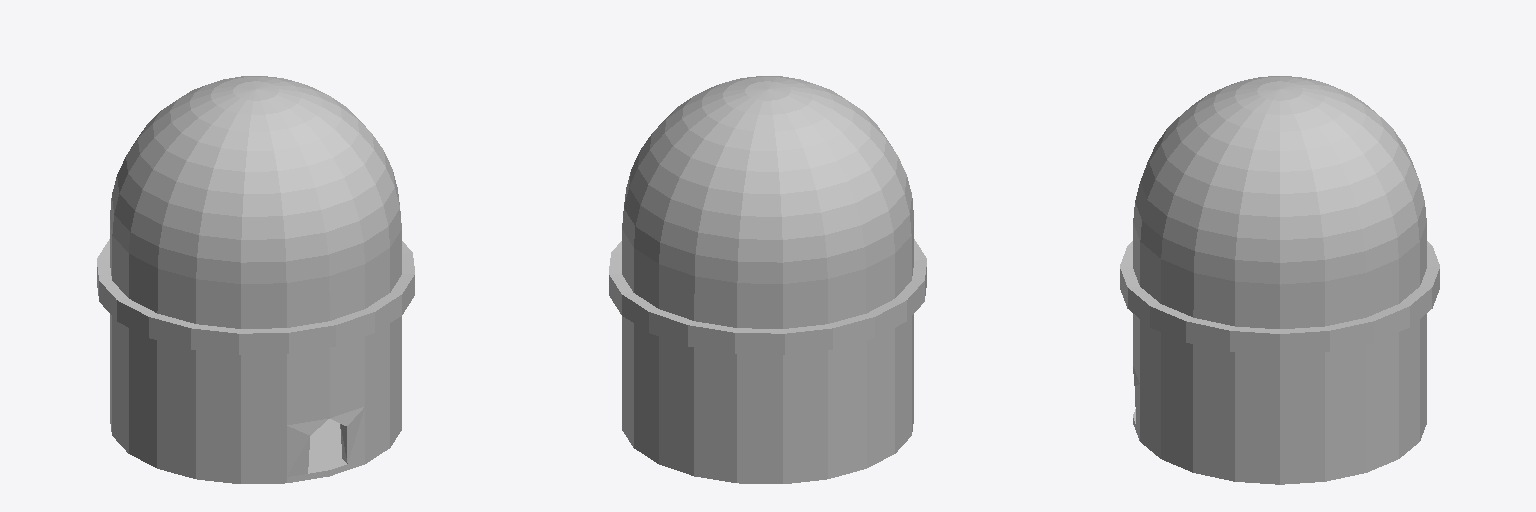
File: ArenaWalls1.obj
The picture shows the model from 3 angles: view 1: azimuth 30°, elevation 25°; view 2: azimuth 150°, elevation 25°; view 3: azimuth 270°, elevation 25°; orthographic projection.
Visible parts, largest first — view 1: pCylinder2; view 2: pCylinder2; view 3: pCylinder2.
Boxes of the visible parts, <box> form: pCylinder2: <box>97,76,414,483</box>; pCylinder2: <box>609,76,926,483</box>; pCylinder2: <box>1120,76,1439,484</box>.
Bounding box in the file's own units: 11.1 × 12.73 × 11.1.